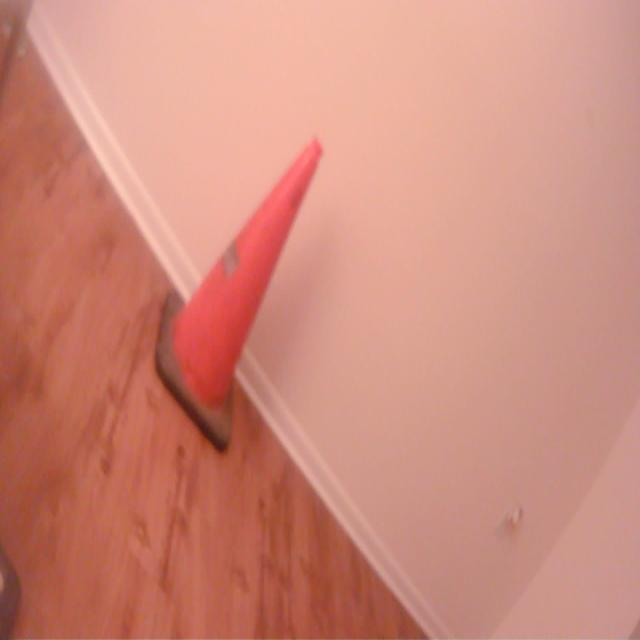traffic cone: (151, 130, 331, 467)
